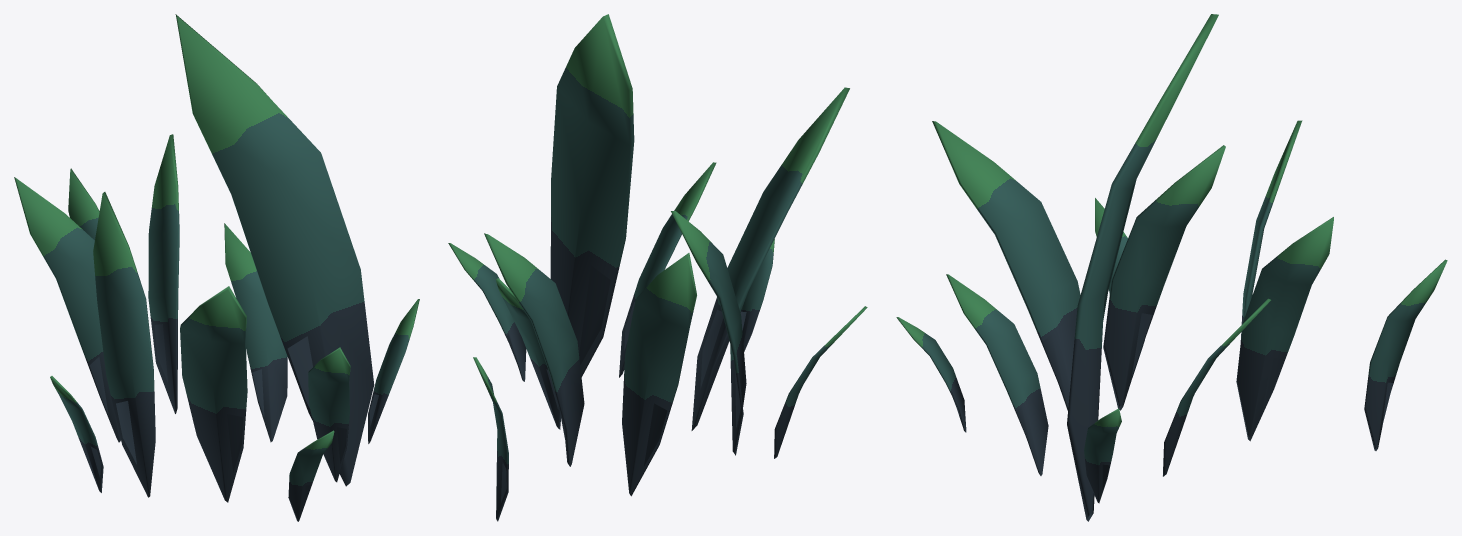
Rendered from Plant_3.fbx.
3 renders of one model, left to right at view 1: azimuth 30°, elevation 25°; view 2: azimuth 150°, elevation 25°; view 3: azimuth 270°, elevation 25°, orthographic. The views are drawn at different scales.
Parts seen in each view (by area): view 1: Grass02; view 2: Grass02; view 3: Grass02.
Boxes of the visible parts, box(x1,y1,x2,y2) form: Grass02: box(14, 14, 419, 521); Grass02: box(448, 14, 867, 521); Grass02: box(896, 14, 1447, 521).
Size of the model in its own units: 50.56 by 57.05 by 62.62.
Materials: 1 (1 with a texture image).
